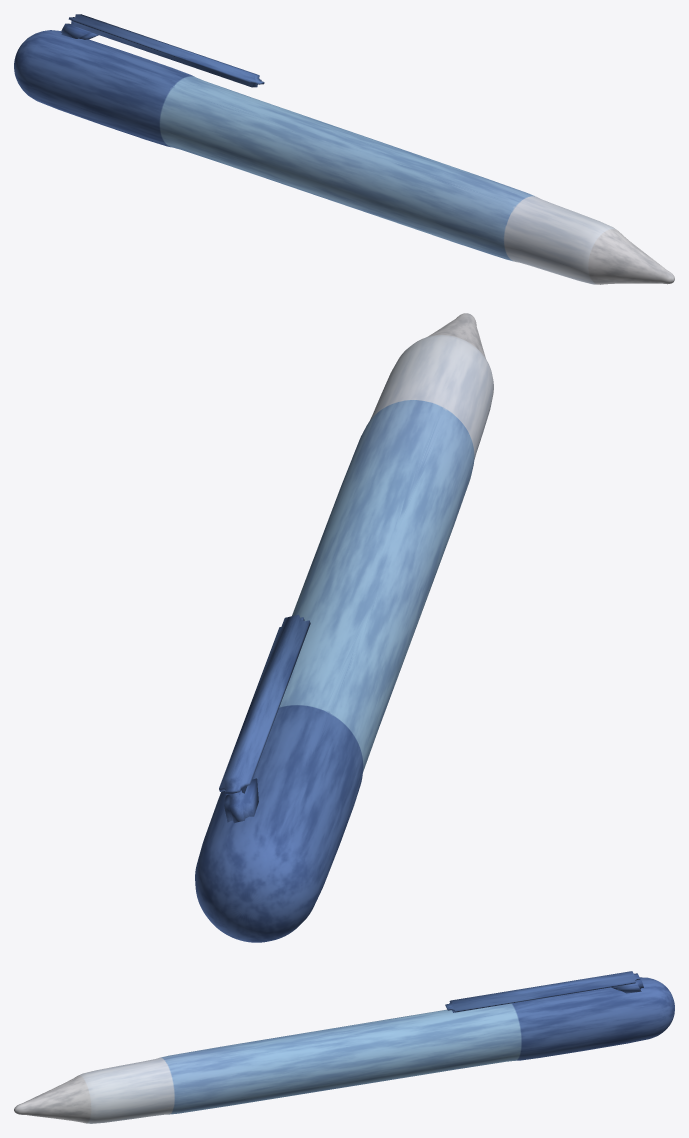
Rendered from lapicero.obj.
3 views of the same model, one above another, from view 1: azimuth 30°, elevation 25°; view 2: azimuth 150°, elevation 25°; view 3: azimuth 270°, elevation 25° (orthographic). The views are drawn at different scales.
Visible parts, largest first — view 1: Lapicero, Lapicero_Clip; view 2: Lapicero, Lapicero_Clip; view 3: Lapicero, Lapicero_Clip.
Boxes of the visible parts, x1=… form: Lapicero: x1=14, y1=30, x2=674, y2=284; Lapicero_Clip: x1=60, y1=14, x2=264, y2=87; Lapicero: x1=195, y1=313, x2=493, y2=942; Lapicero_Clip: x1=219, y1=614, x2=310, y2=823; Lapicero: x1=14, y1=977, x2=674, y2=1123; Lapicero_Clip: x1=445, y1=971, x2=643, y2=1012.
Bounding box in the file's own units: 0.5822 × 0.1728 × 1.4.
2 materials, 2 textured.
